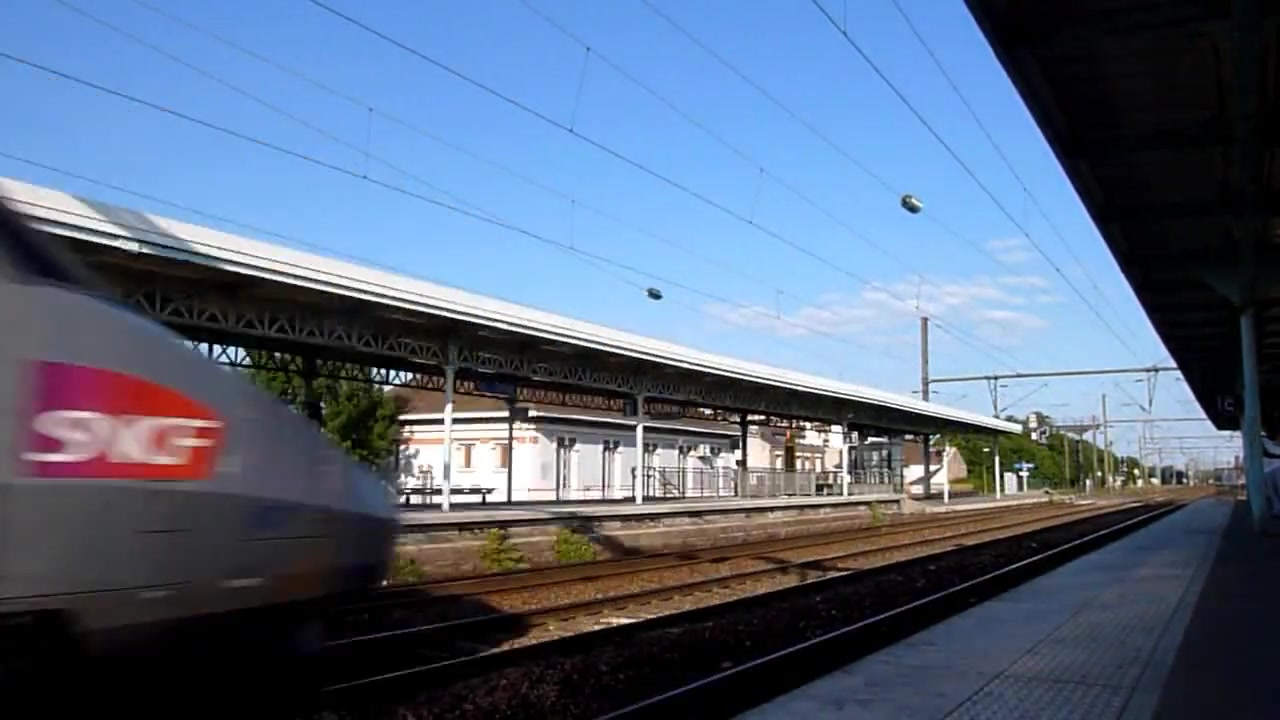train: (2, 170, 398, 663)
